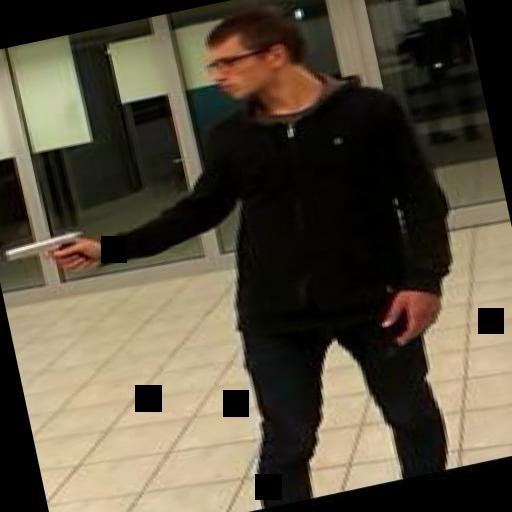Handgun: (0, 224, 95, 284)
